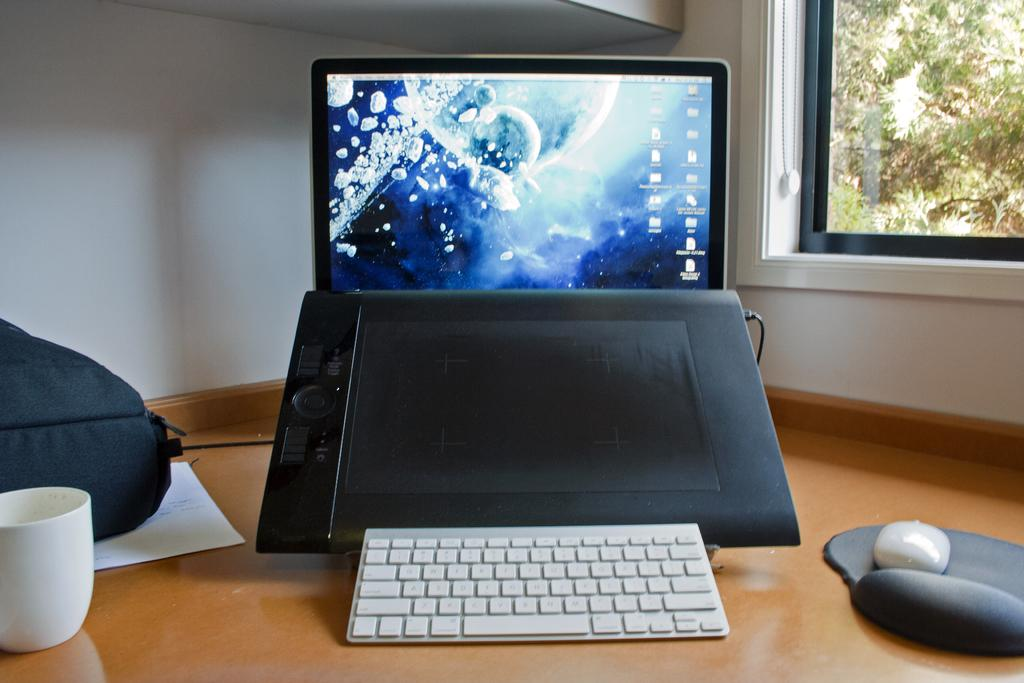Computer-keyboard: (347, 523, 732, 644)
Computer-monitor: (315, 62, 728, 292)
